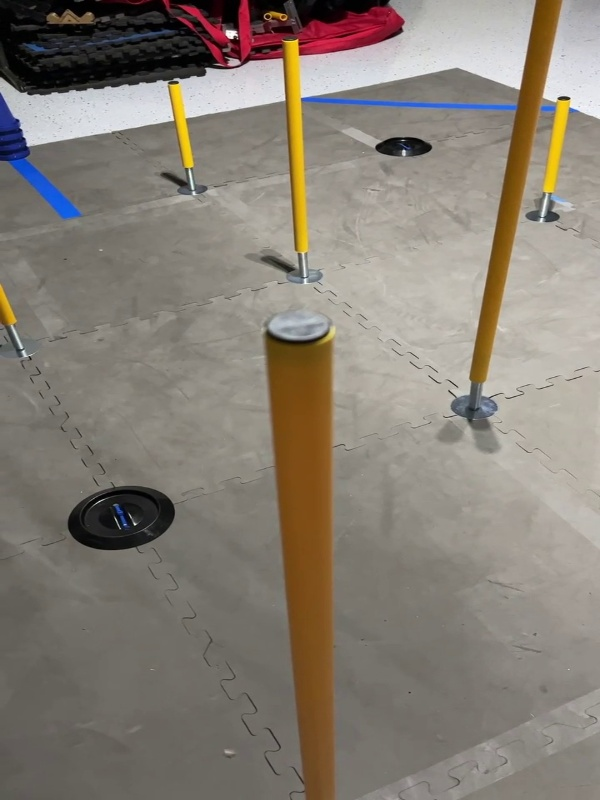top: (253, 305, 341, 353)
